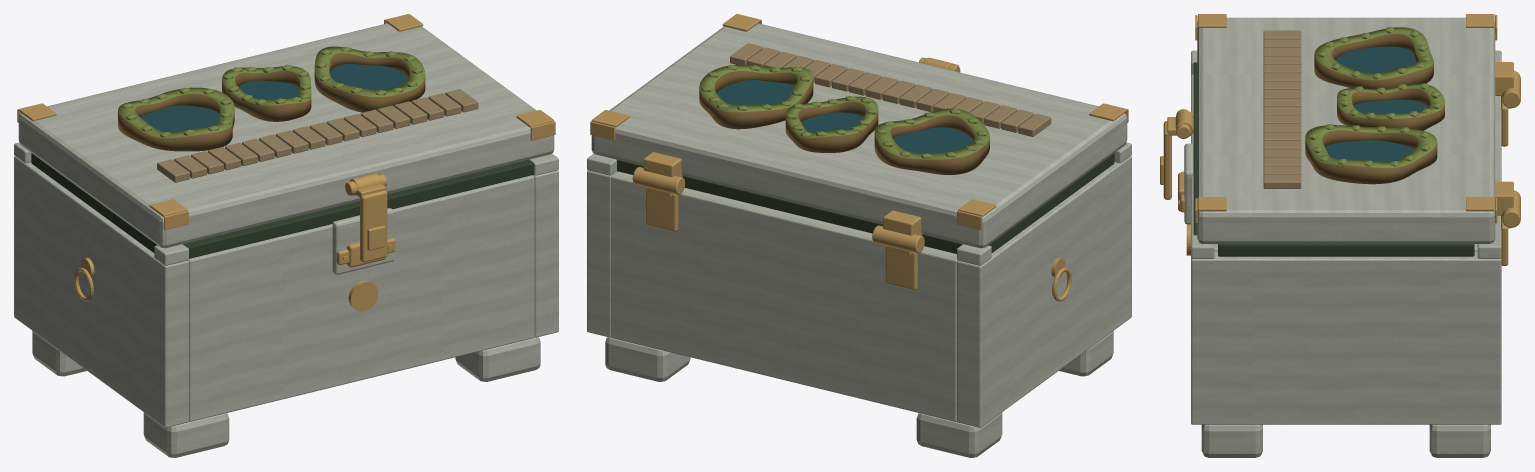
The model's file is estonia.glb.
3 views of the same model, side by side, from view 1: azimuth 30°, elevation 25°; view 2: azimuth 150°, elevation 25°; view 3: azimuth 270°, elevation 25° (orthographic). The views are drawn at different scales.
Parts seen in each view (by area): view 1: Limestone / front rear skin, Lid / polished slab, Limestone / side skin, Mineral seam / long, Bog / rim 0, Limestone / side skin.001, Bog / rim 2, Bog / rim 1, Limestone / foot, Limestone / foot.002, Bog / water 2, Bog / water 0 (+7 smaller); view 2: Limestone / front rear skin.001, Lid / polished slab, Limestone / side skin, Bog / rim 0, Limestone / side skin.001, Bog / rim 2, Mineral seam / long.001, Bog / rim 1, Limestone / foot.001, Limestone / foot.003, Bog / water 0, Bog / water 2 (+10 smaller); view 3: Limestone / side skin.001, Lid / polished slab, Bog / rim 2, Bog / rim 0, Mineral seam / side.001, Bog / rim 1, Limestone / foot.003, Limestone / foot.002, Bog / water 0, Bog / water 2, Bog / water 1, Mineral seam / long (+17 smaller).
Part boxes in pixels (box(x1,y1,x2,y2)): Limestone / front rear skin: box(188, 175, 534, 421); Lid / polished slab: box(18, 23, 554, 248); Limestone / side skin: box(14, 156, 188, 427); Mineral seam / long: box(183, 159, 533, 258); Bog / rim 0: box(118, 87, 234, 151); Limestone / side skin.001: box(532, 170, 558, 337); Bog / rim 2: box(314, 46, 425, 112); Bog / rim 1: box(222, 66, 311, 121); Limestone / foot: box(143, 412, 229, 457); Limestone / foot.002: box(455, 337, 540, 381); Bog / water 2: box(330, 64, 408, 89); Bog / water 0: box(140, 105, 219, 132); Limestone / front rear skin.001: box(611, 171, 957, 421); Lid / polished slab: box(591, 23, 1127, 248); Limestone / side skin: box(957, 156, 1131, 427); Bog / rim 0: box(874, 108, 989, 174); Limestone / side skin.001: box(587, 170, 618, 337); Bog / rim 2: box(699, 64, 813, 129); Mineral seam / long.001: box(617, 159, 962, 253); Bog / rim 1: box(785, 96, 878, 152); Limestone / foot.001: box(916, 412, 1002, 457); Limestone / foot.003: box(605, 337, 690, 381); Bog / water 0: box(893, 127, 973, 153); Bog / water 2: box(716, 80, 794, 104); Limestone / side skin.001: box(1191, 251, 1501, 424); Lid / polished slab: box(1197, 17, 1495, 243); Bog / rim 2: box(1305, 125, 1437, 184); Bog / rim 0: box(1314, 27, 1433, 88); Mineral seam / side.001: box(1218, 244, 1474, 256); Bog / rim 1: box(1337, 84, 1444, 130); Limestone / foot.003: box(1429, 424, 1490, 457); Limestone / foot.002: box(1201, 424, 1262, 457); Bog / water 0: box(1335, 46, 1416, 73); Bog / water 2: box(1325, 140, 1414, 161); Bog / water 1: box(1353, 99, 1427, 114); Mineral seam / long: box(1193, 62, 1197, 235).
Bounding box in the file's own units: 3.79 × 2.42 × 2.88.
Materials: 7 (1 with a texture image).
